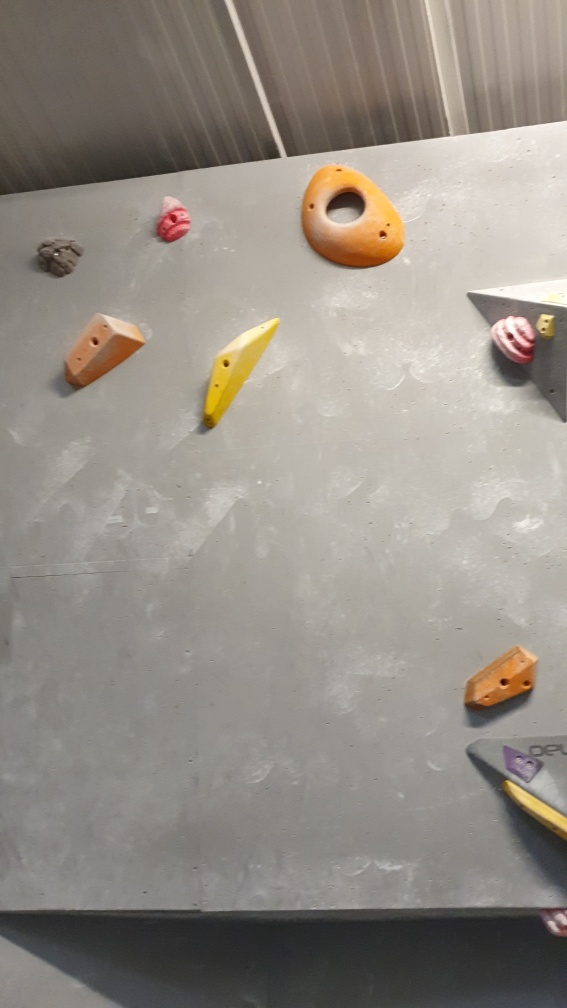Jug: (488, 313, 538, 371), (34, 231, 93, 278), (155, 195, 196, 245)
Pinch: (197, 314, 279, 433), (62, 309, 146, 397), (467, 644, 542, 718)
Pocket: (300, 163, 408, 271)
